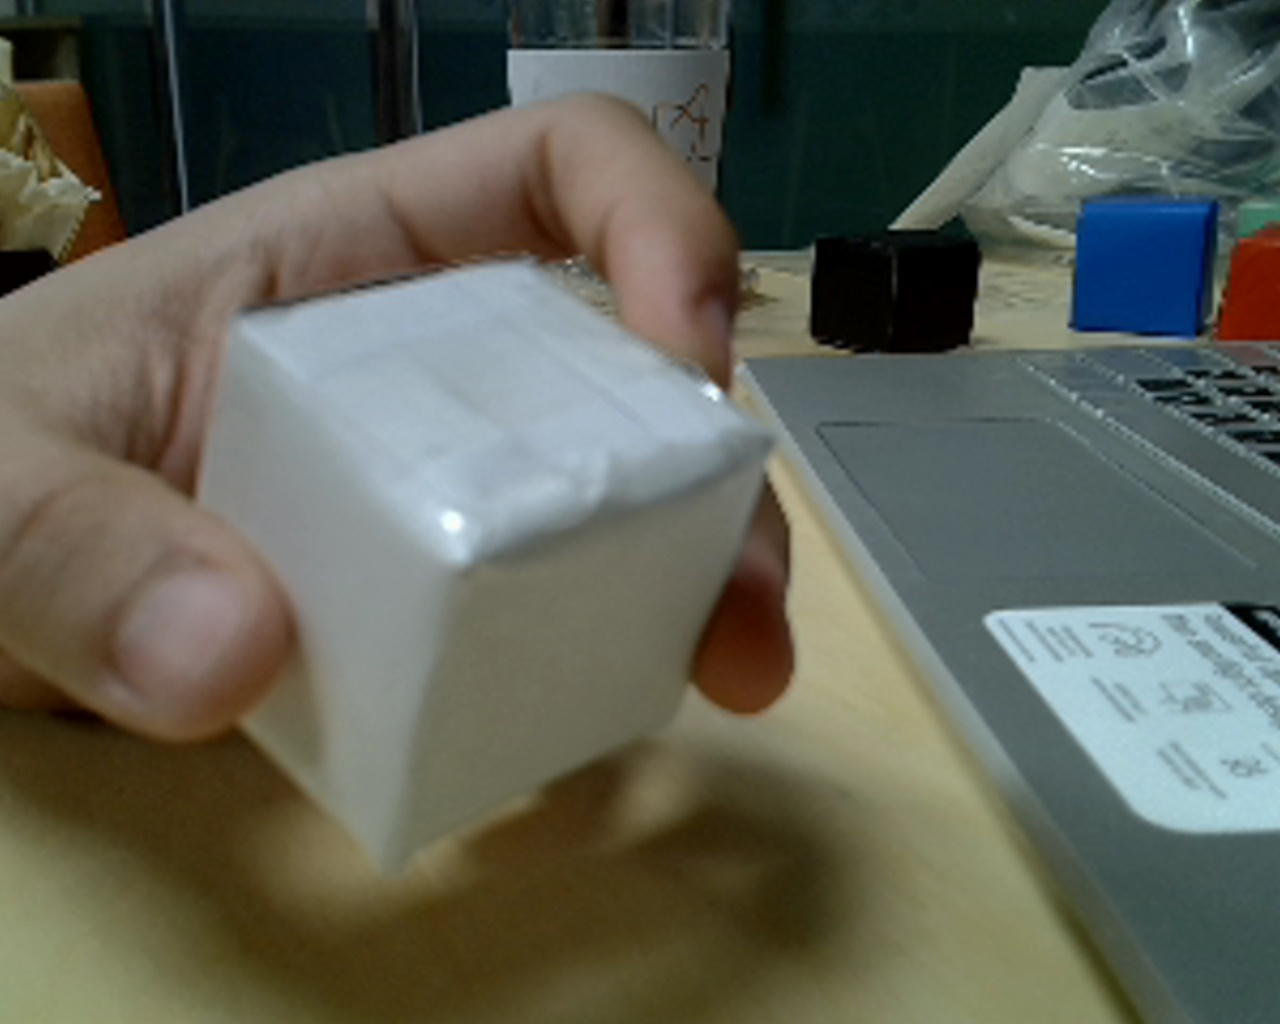whitebox: (155, 192, 805, 884)
